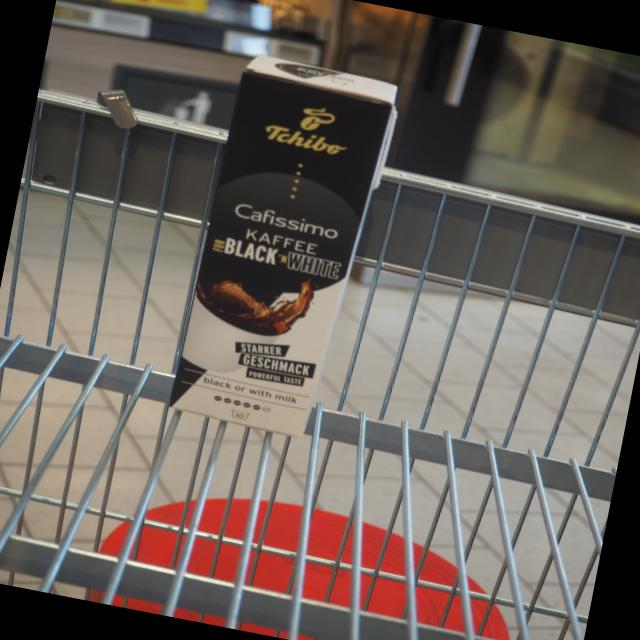Simo Kaffee BW: (158, 45, 410, 442)
